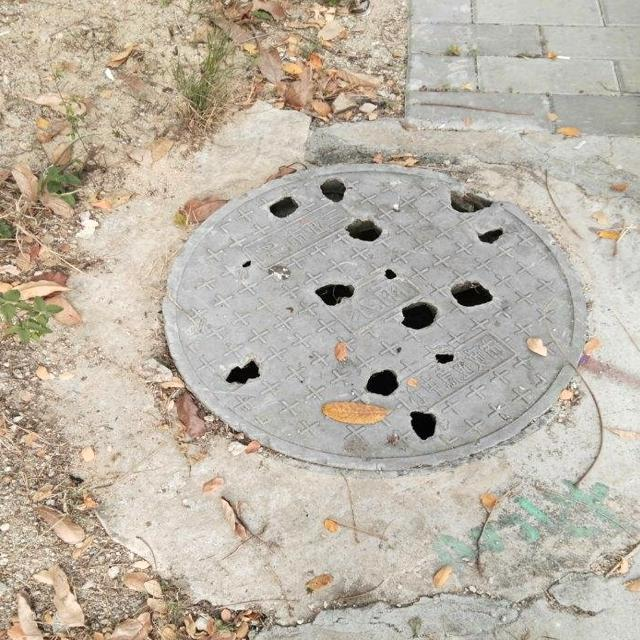broke: (162, 162, 588, 470)
